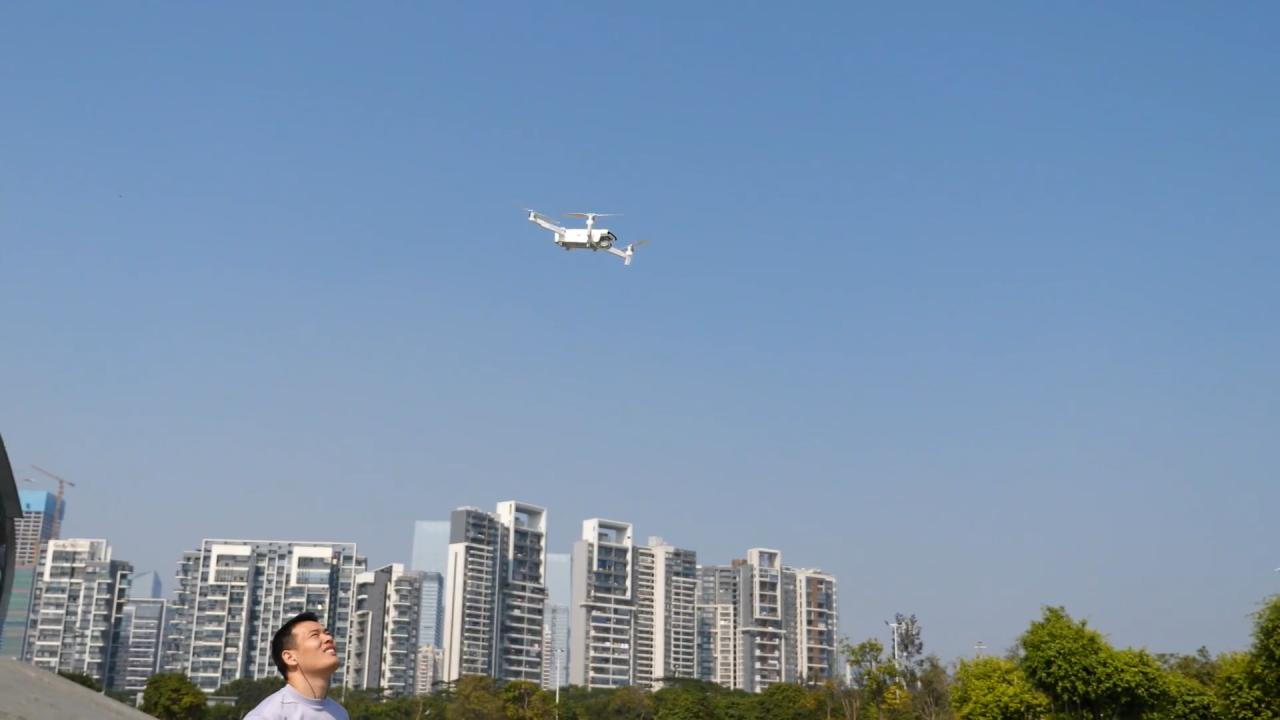Drone: (512, 194, 655, 275)
